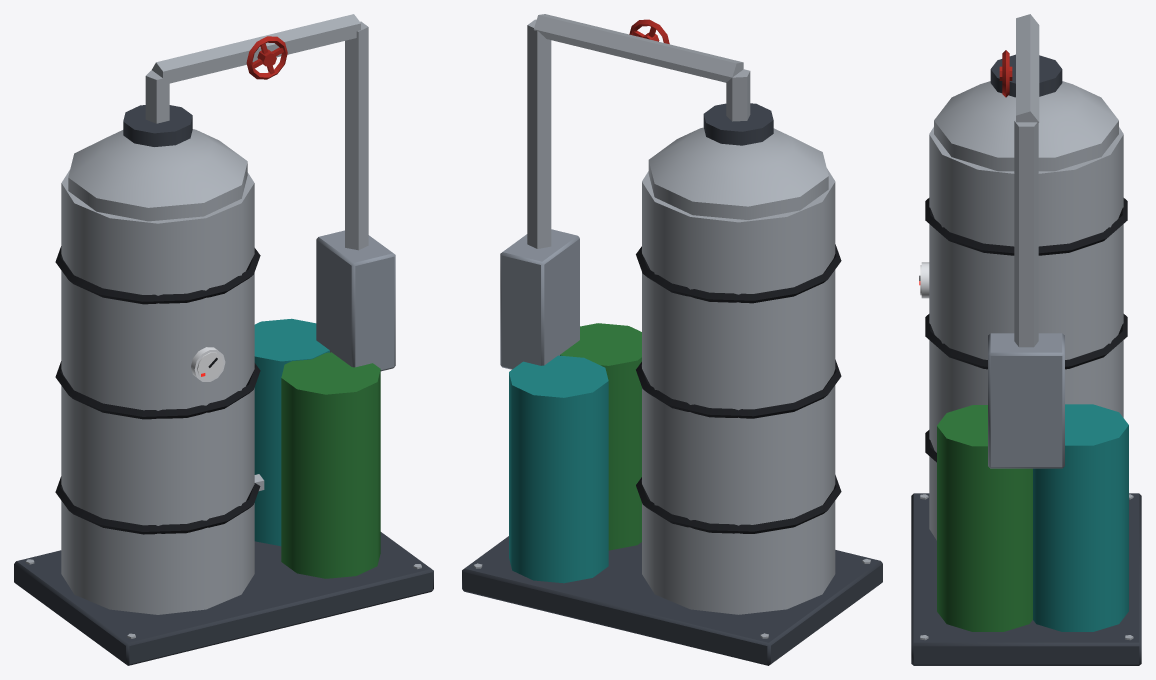
Rendered from generator_fuel_processor.glb.
3 renders of one model, left to right at view 1: azimuth 30°, elevation 25°; view 2: azimuth 150°, elevation 25°; view 3: azimuth 270°, elevation 25°, orthographic.
Parts seen in each view (by area): view 1: generator_fuel_processor; view 2: generator_fuel_processor; view 3: generator_fuel_processor.
Boxes of the visible parts, x1,y1,x2,y2 form: generator_fuel_processor: [14, 14, 433, 665]; generator_fuel_processor: [462, 14, 882, 665]; generator_fuel_processor: [911, 14, 1141, 665].
Size of the model in its own units: 1.4 by 2.39 by 0.9.
